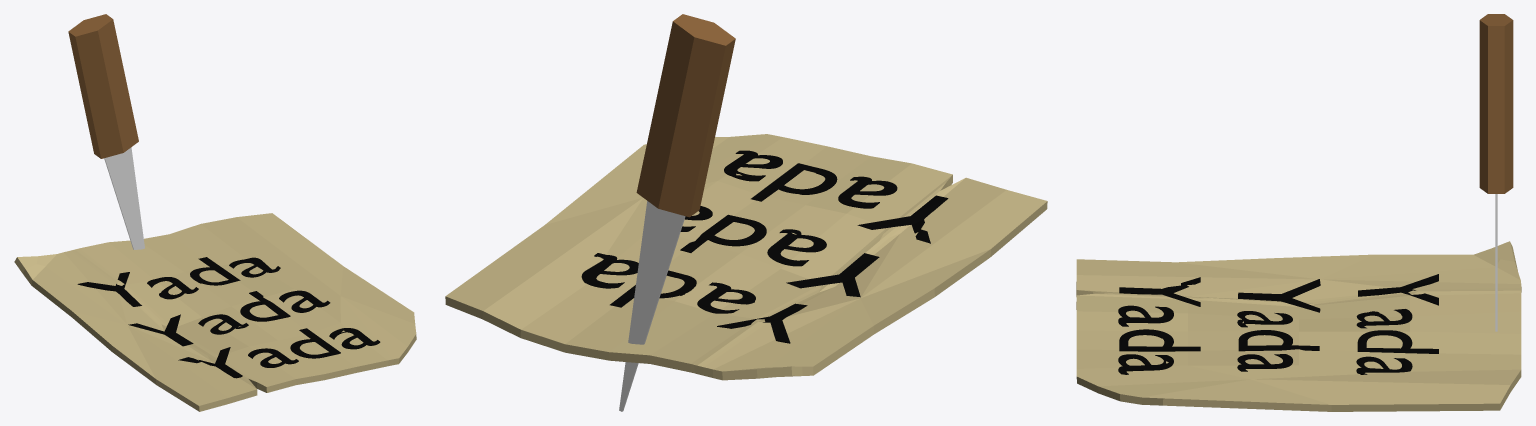
The model's file is TutorialPaper.glb.
3 renders of one model, left to right at view 1: azimuth 30°, elevation 25°; view 2: azimuth 150°, elevation 25°; view 3: azimuth 270°, elevation 25°, orthographic. The views are drawn at different scales.
Visible parts, largest first — view 1: Paper, Knife, Text; view 2: Paper, Knife, Text; view 3: Paper, Text, Knife.
Boxes of the visible parts, x1=… form: Paper: x1=14, y1=213, x2=416, y2=411; Knife: x1=68, y1=14, x2=144, y2=249; Text: x1=77, y1=257, x2=380, y2=378; Paper: x1=445, y1=134, x2=1047, y2=380; Knife: x1=619, y1=14, x2=735, y2=411; Text: x1=581, y1=150, x2=948, y2=343; Paper: x1=1076, y1=241, x2=1521, y2=411; Text: x1=1118, y1=274, x2=1438, y2=374; Knife: x1=1479, y1=14, x2=1513, y2=331.
Bounding box in the file's own units: 0.441 × 0.4804 × 0.5614.
